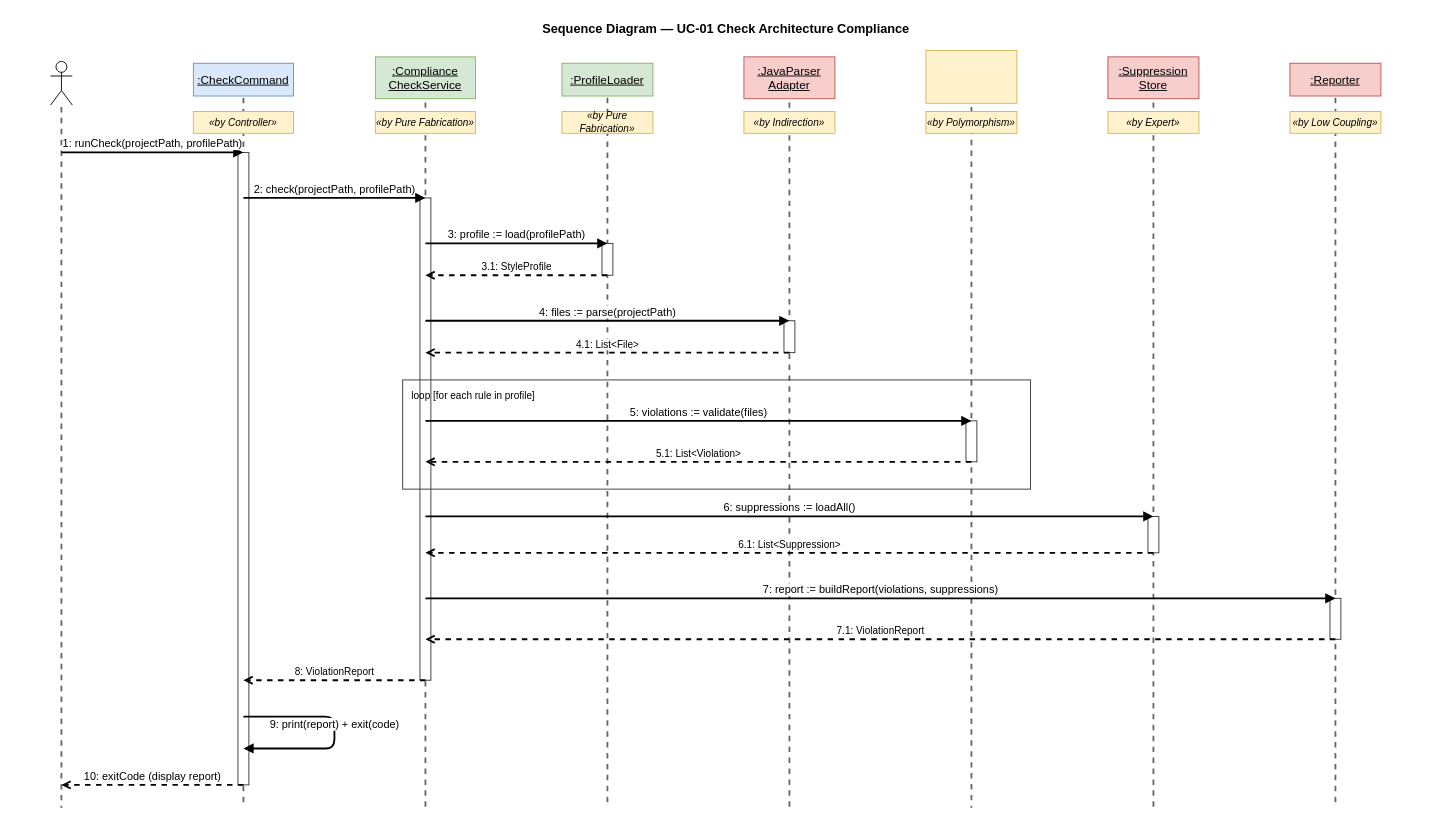
Image size: 1451x824. Some labels were removed from this diagram. The shapes that lost their labels are listed below. From the top down, each one's centre as x and y in pixels, then its label:
At pixel 61 83: "Developer".
At pixel 971 76: "rule: Compliance Rule".
